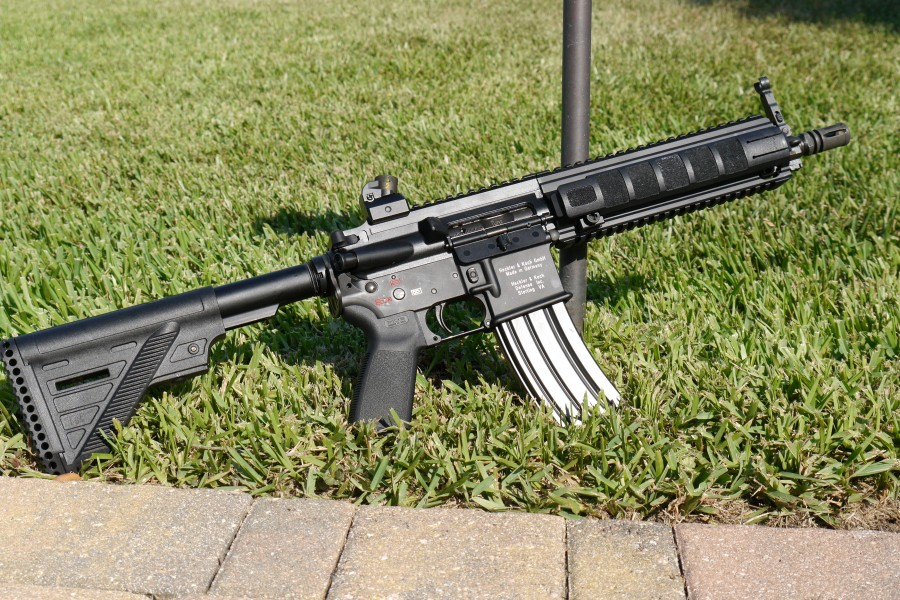Rifle: (1, 71, 853, 474)
